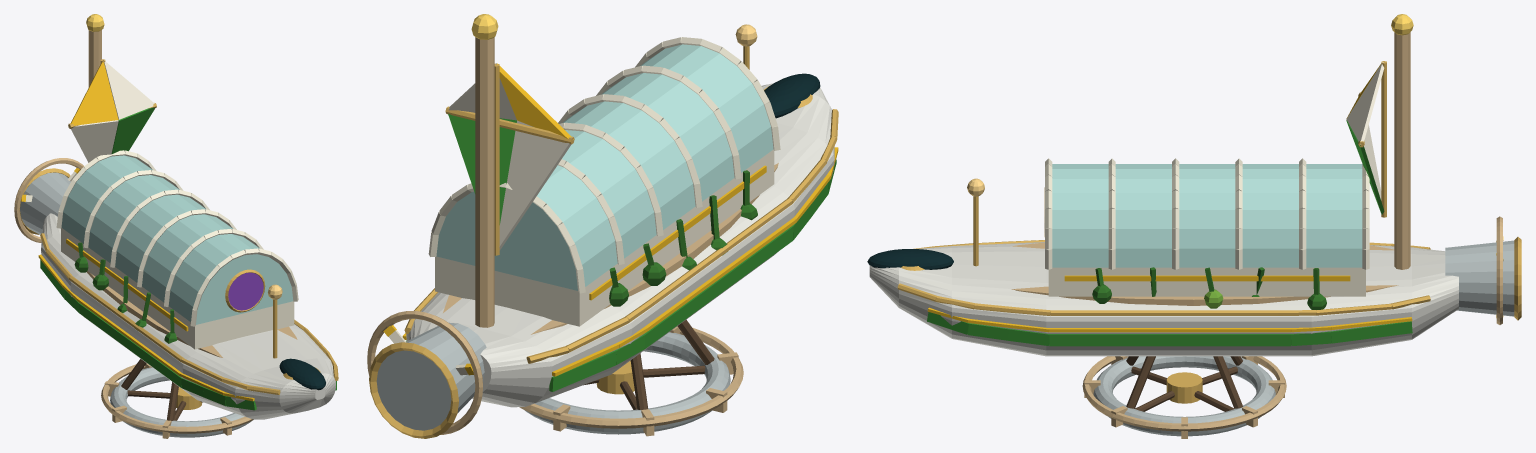
The model's file is launch.obj.
The picture shows the model from 3 angles, left to right: view 1: azimuth 30°, elevation 25°; view 2: azimuth 150°, elevation 25°; view 3: azimuth 270°, elevation 25°; orthographic projection. The views are drawn at different scales.
Visible parts, largest first — view 1: launch; view 2: launch; view 3: launch.
Boxes of the visible parts, x1,y1,x2,y2 form: launch: [14, 14, 338, 438]; launch: [367, 14, 838, 438]; launch: [867, 14, 1521, 438].
Size of the model in its own units: 28.07 by 58.58 by 90.
1 material, 1 textured.
